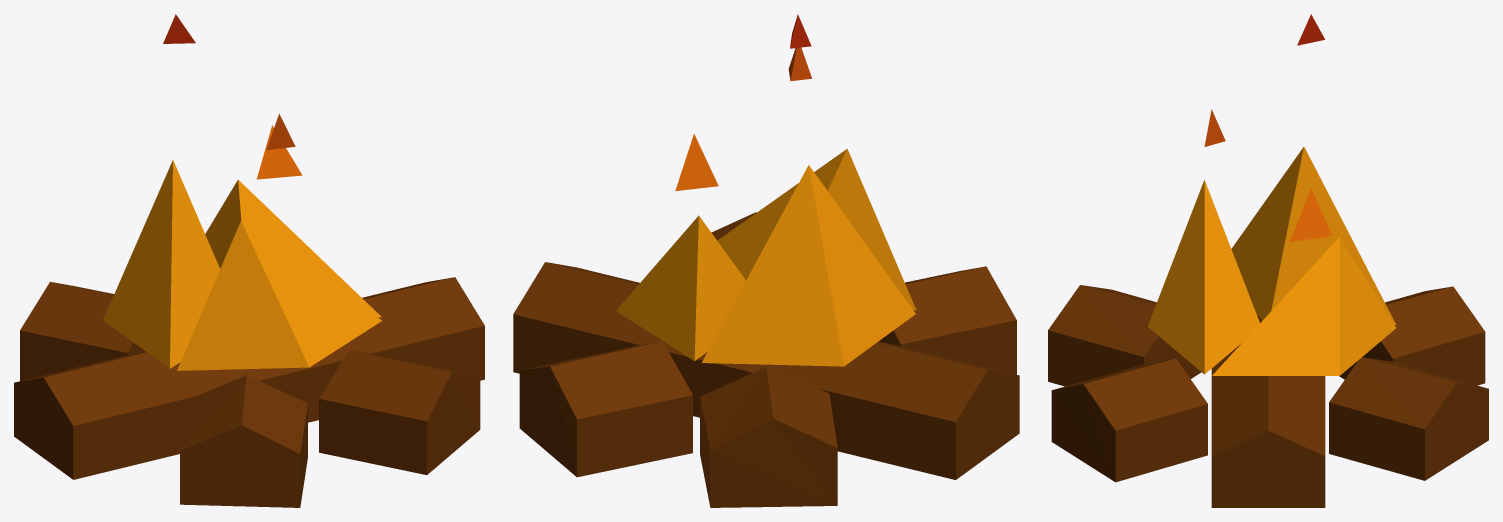
File: firea1.obj
3 views of the same model, side by side, from view 1: azimuth 30°, elevation 25°; view 2: azimuth 150°, elevation 25°; view 3: azimuth 270°, elevation 25° (orthographic). The views are drawn at different scales.
Parts seen in each view (by area): view 1: firea1_back; view 2: firea1_back; view 3: firea1_back.
Part boxes in pixels (left/top/right/bottom): firea1_back: left=14, top=14, right=484, bottom=507; firea1_back: left=513, top=14, right=1019, bottom=507; firea1_back: left=1048, top=14, right=1488, bottom=507.
Bounding box in the file's own units: 1.28 × 1.16 × 1.24.
